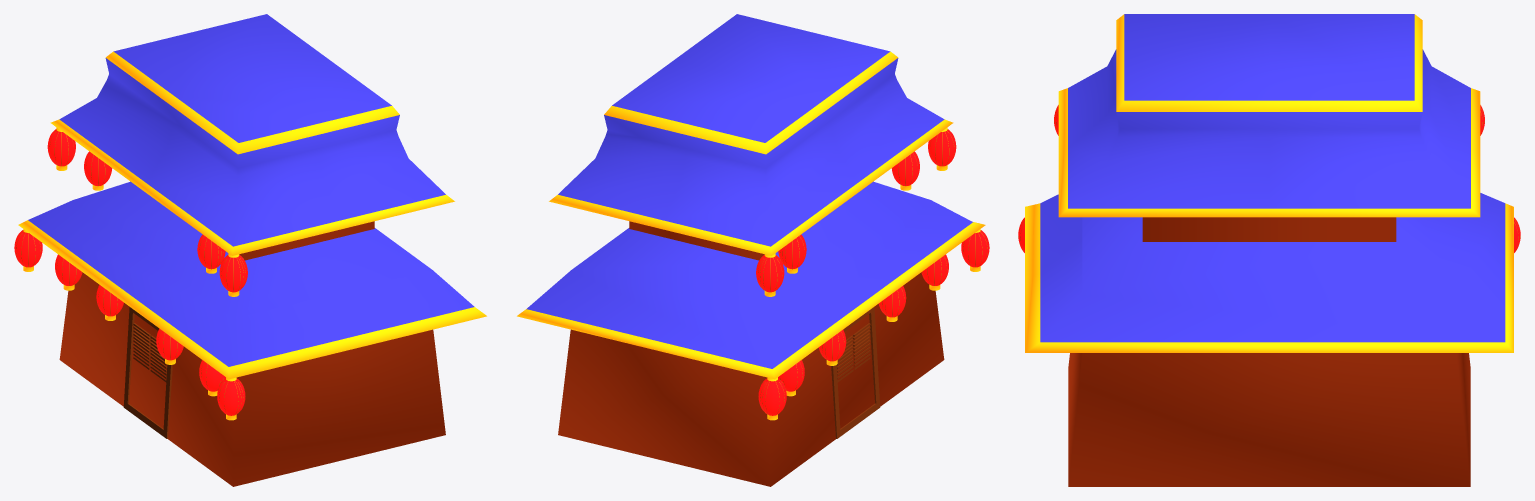
File: house 1.fbx
The picture shows the model from 3 angles, left to right: view 1: azimuth 30°, elevation 25°; view 2: azimuth 150°, elevation 25°; view 3: azimuth 270°, elevation 25°; orthographic projection. The views are drawn at different scales.
Visible parts, largest first — view 1: Cube.019; view 2: Cube.019; view 3: Cube.019.
Part boxes in pixels (x1,y1,x2,y2): Cube.019: (14, 14, 486, 486); Cube.019: (517, 14, 989, 486); Cube.019: (1018, 14, 1520, 486).
Size of the model in its own units: 220 by 254 by 313.
